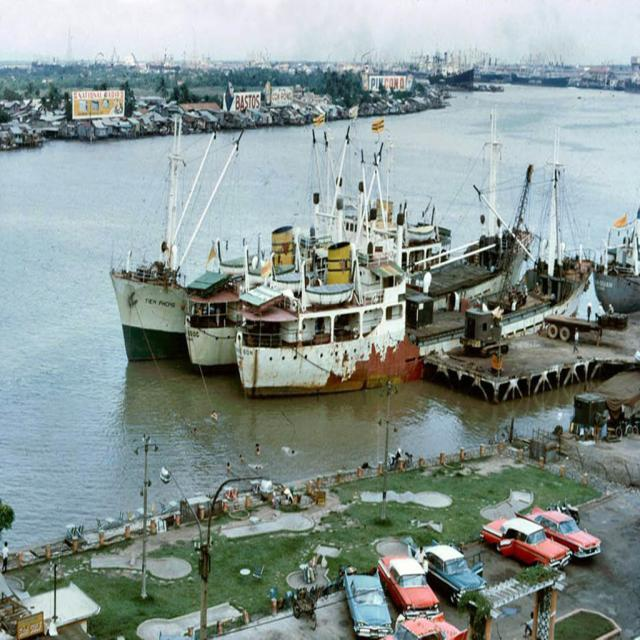car: (479, 515, 574, 575), (375, 550, 440, 616)
